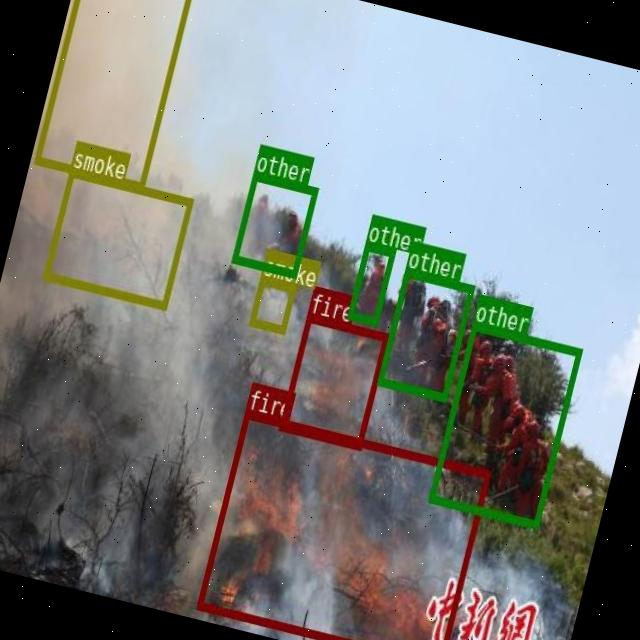fire: (195, 408, 490, 640), (278, 312, 388, 448)
smoke: (32, 0, 197, 190), (41, 166, 193, 308), (248, 274, 296, 332)
